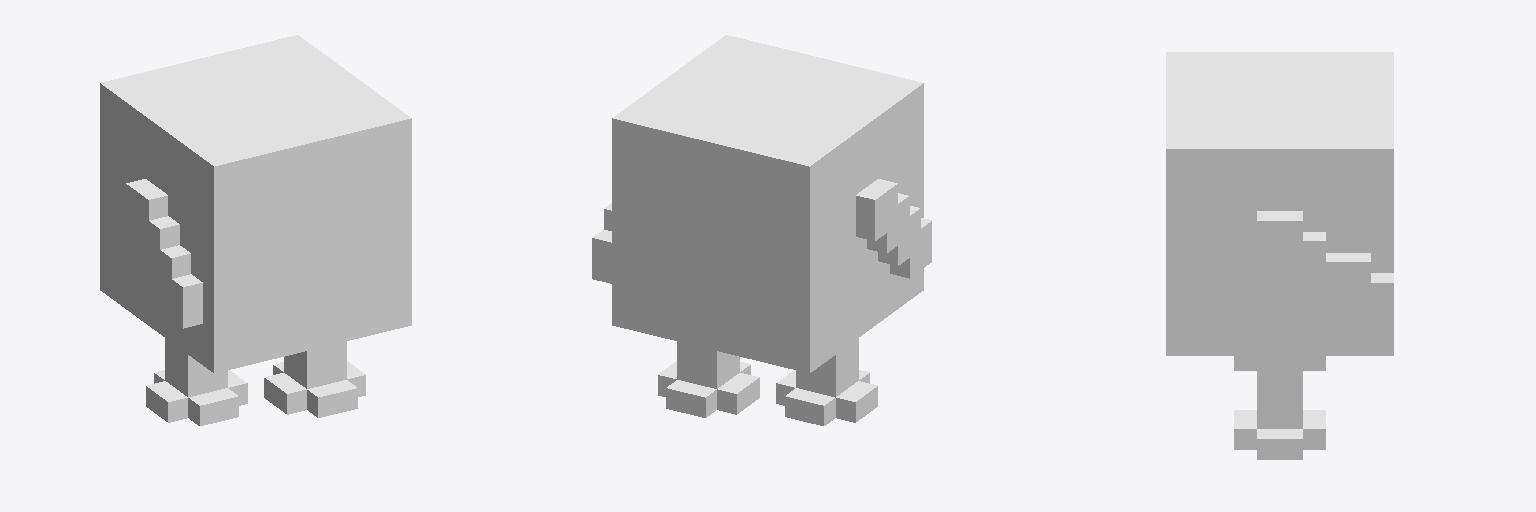
Rendered from cube_boy_3.obj.
The picture shows the model from 3 angles: view 1: azimuth 30°, elevation 25°; view 2: azimuth 150°, elevation 25°; view 3: azimuth 270°, elevation 25°; orthographic projection.
Visible parts, largest first — view 1: object 1; view 2: object 1; view 3: object 1.
Boxes of the visible parts, <box> form: object 1: <box>100,35,411,425</box>; object 1: <box>592,35,931,425</box>; object 1: <box>1166,52,1393,459</box>.
Size of the model in its own units: 1.2 by 1.5 by 1.